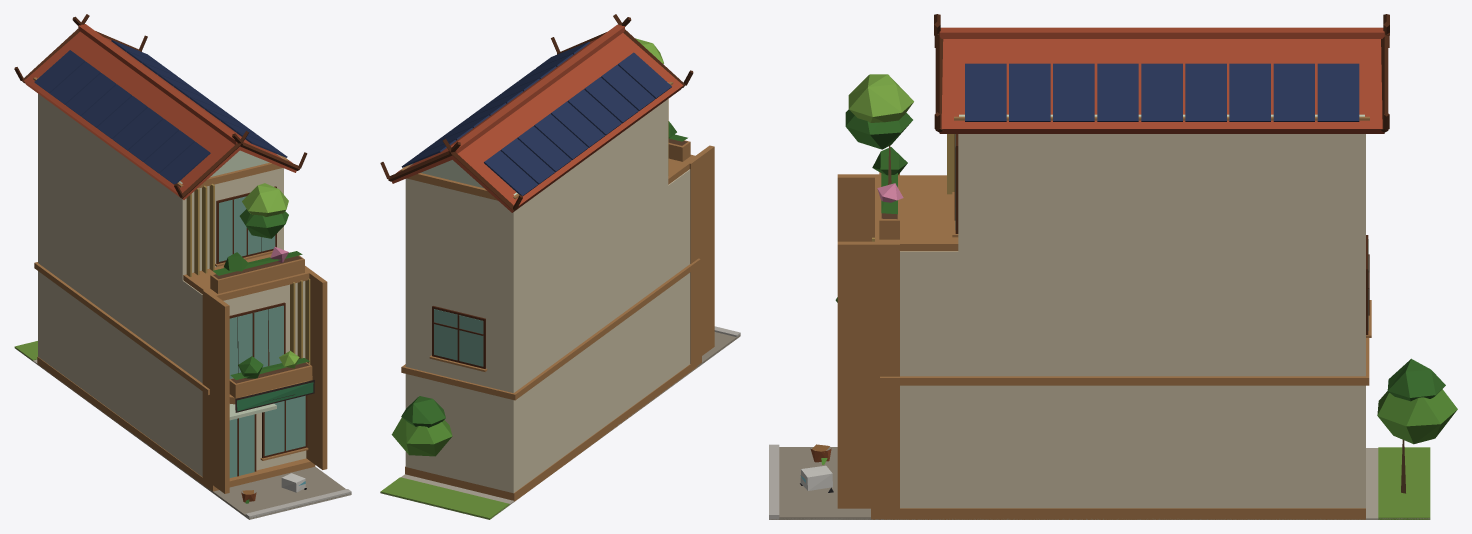
File: bay1_mid2.glb
3 renders of one model, left to right at view 1: azimuth 30°, elevation 25°; view 2: azimuth 150°, elevation 25°; view 3: azimuth 270°, elevation 25°, orthographic. The views are drawn at different scales.
Visible parts, largest first — view 1: body; view 2: body; view 3: body.
Boxes of the visible parts, x1=… form: body: x1=14, y1=14, x2=351, y2=519; body: x1=380, y1=14, x2=740, y2=519; body: x1=769, y1=14, x2=1457, y2=519.
Bounding box in the file's own units: 5.23 × 12.77 × 16.56.
